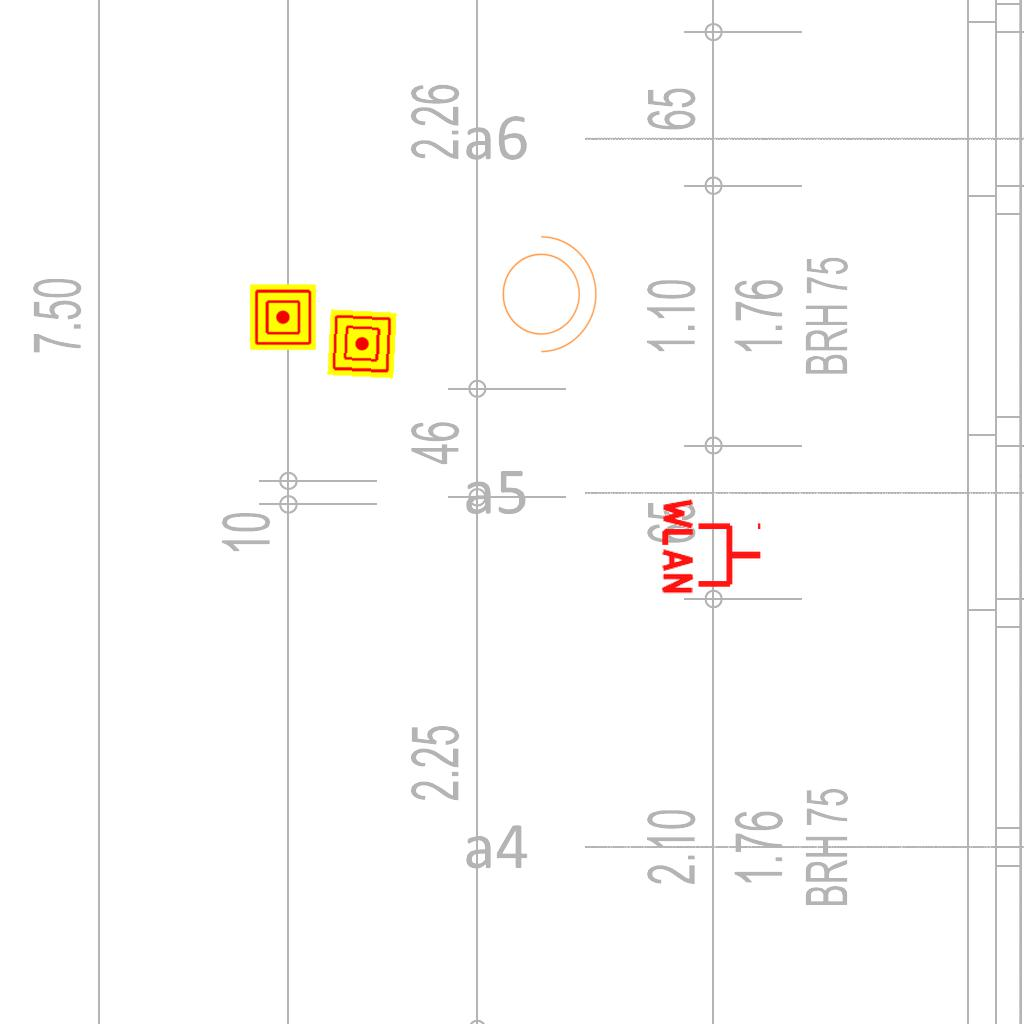NAM-Nichtautomatischer_Melder: (327, 309, 397, 379), (250, 284, 316, 350)
Scheinwerfer_fuer_Alarmbeleuchtung: (490, 225, 602, 357)
WLAN: (660, 494, 765, 598)
